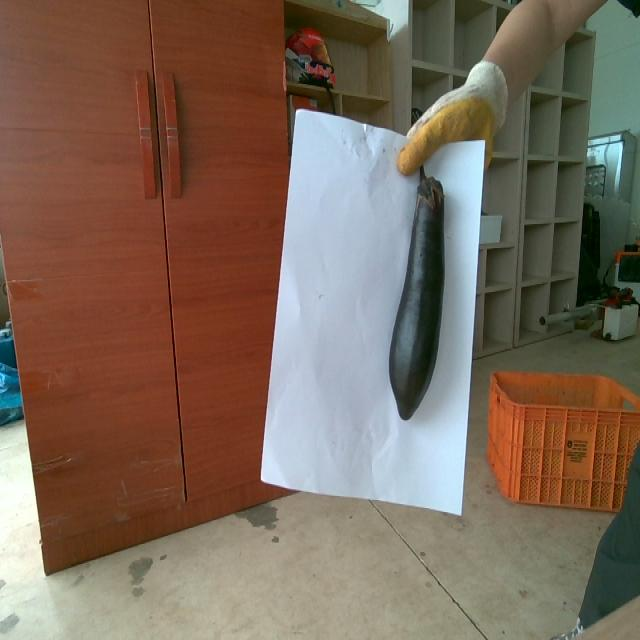Egg plant: (389, 167, 443, 419)
